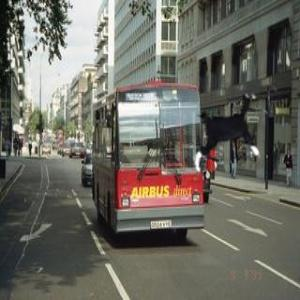drone: (179, 85, 283, 189)
